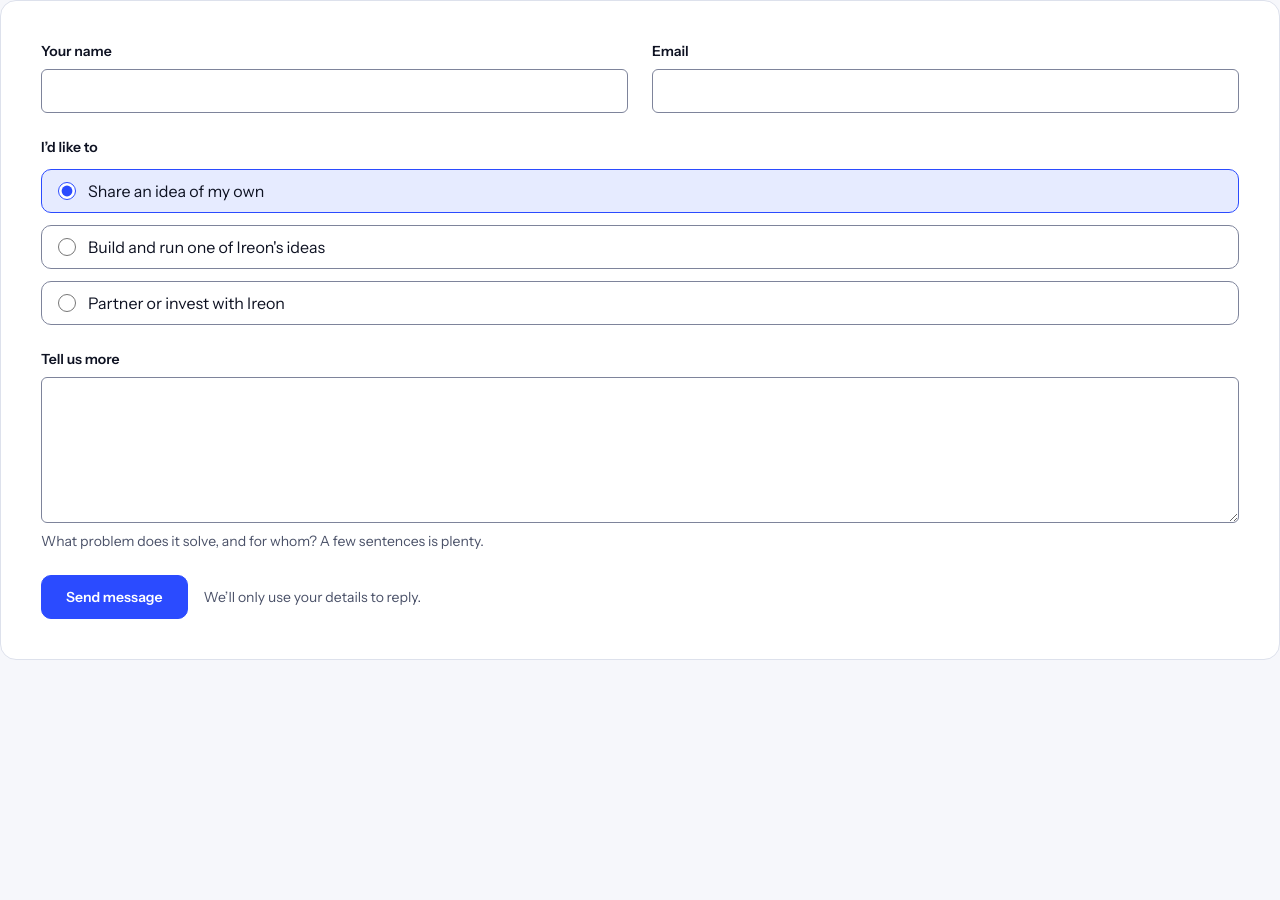
Test case: ContactForm › keeps the form and shows the error when sending fails
The width and height of the screenshot is (1280, 900).
Type "Ada" into the field labelled "Your name" at (334, 91), box [41, 69, 628, 113]
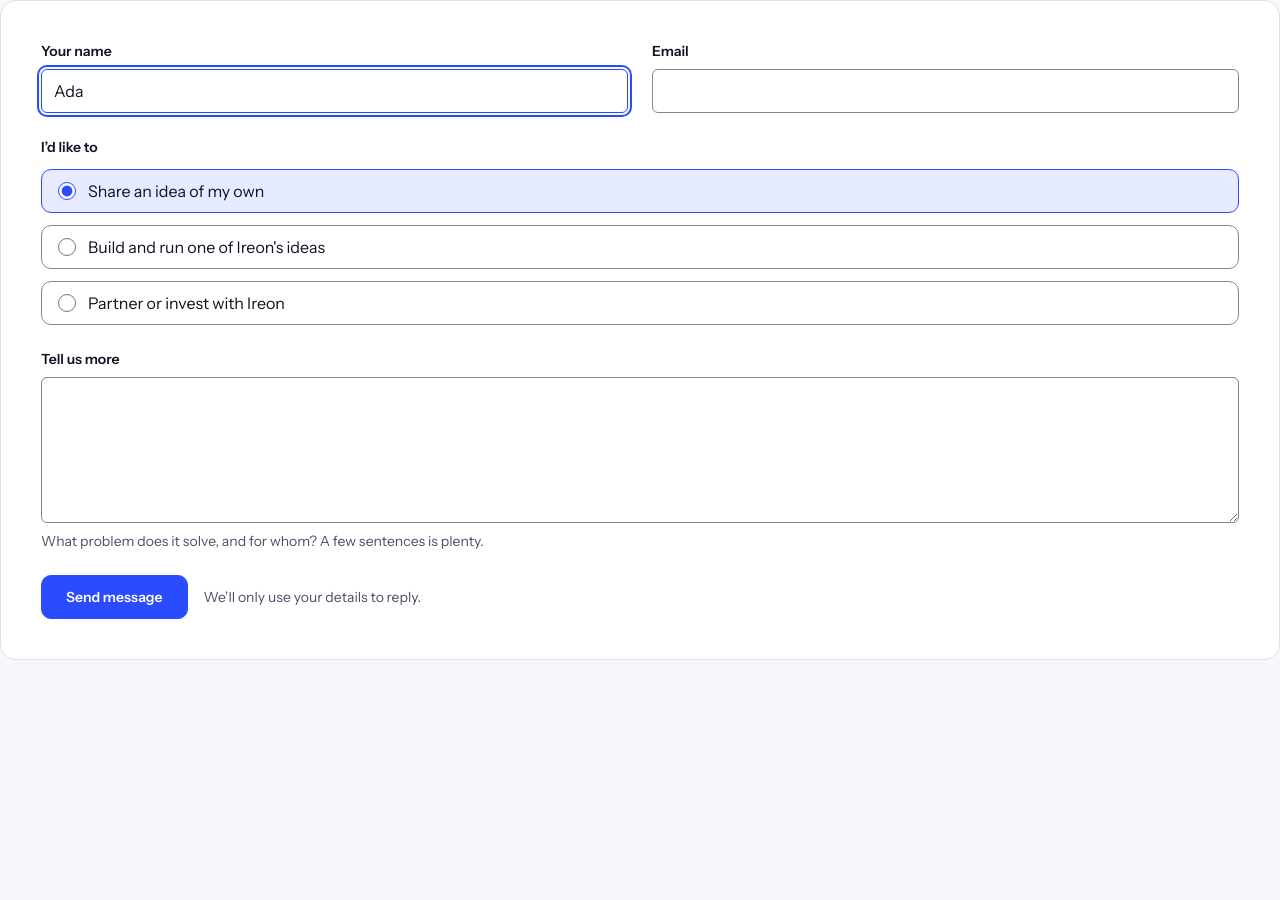
Type "ada@example.com" into the field labelled "Email" at (946, 91), box [652, 69, 1239, 113]
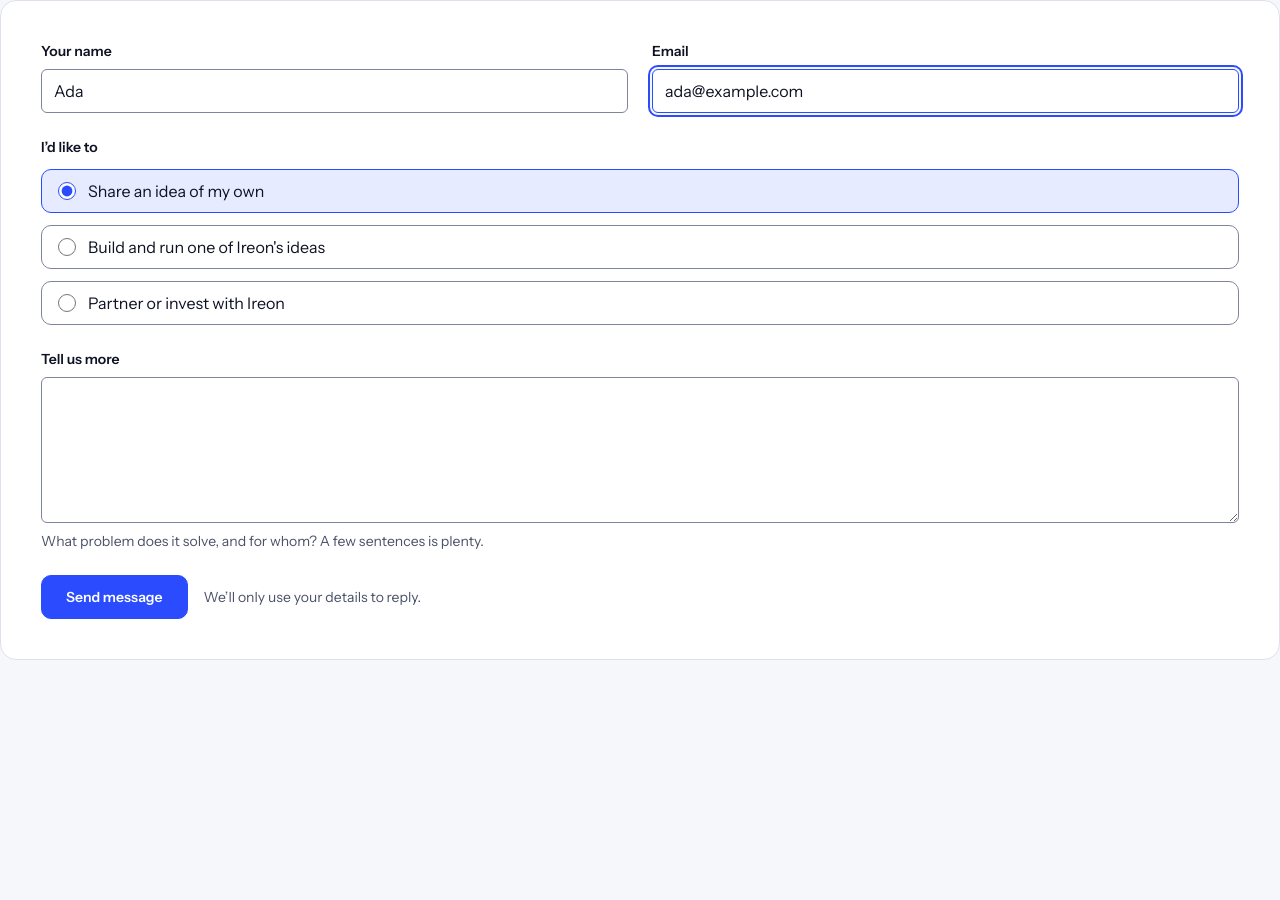
Type "A short description of the idea." into the text box labelled "Tell us more" at (640, 450), box [41, 377, 1239, 523]
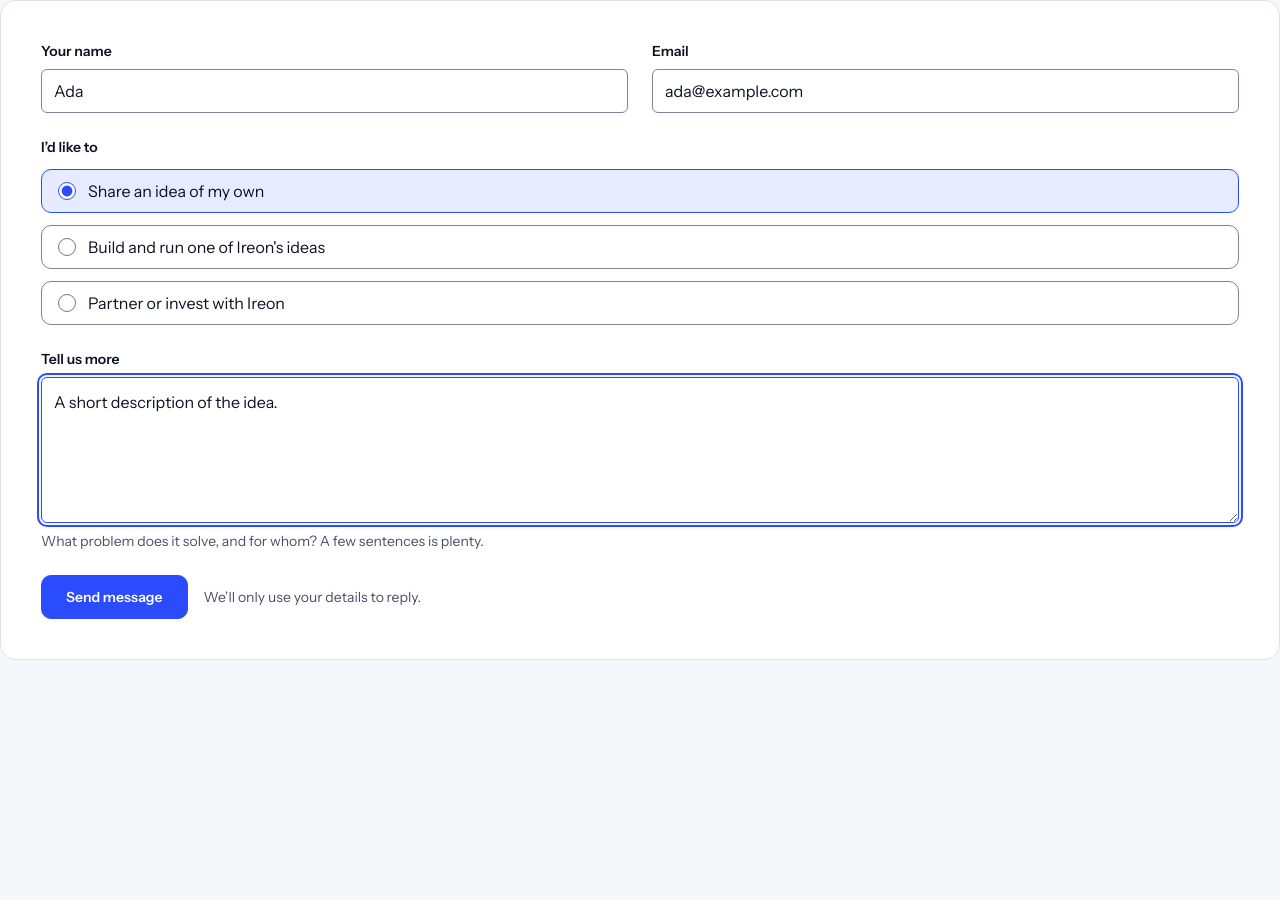
Click the button "Send message" at (114, 597), box [41, 575, 188, 619]
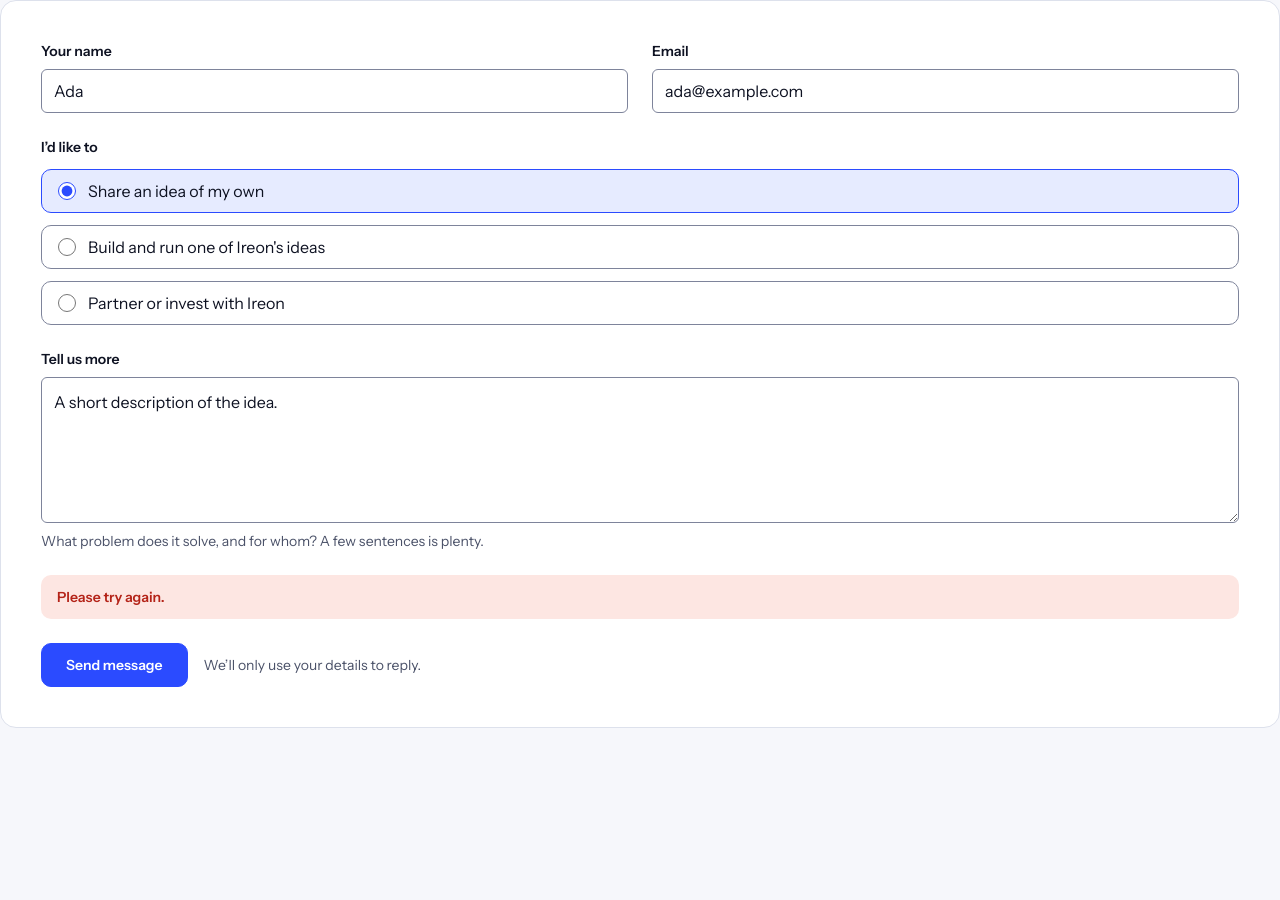
Now the message reads "Please try again.", box [57, 588, 164, 606]
